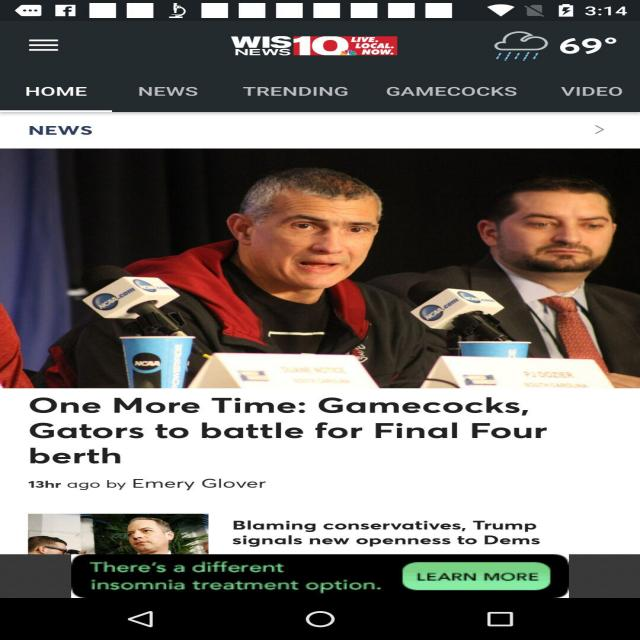image: (14, 144, 640, 398)
